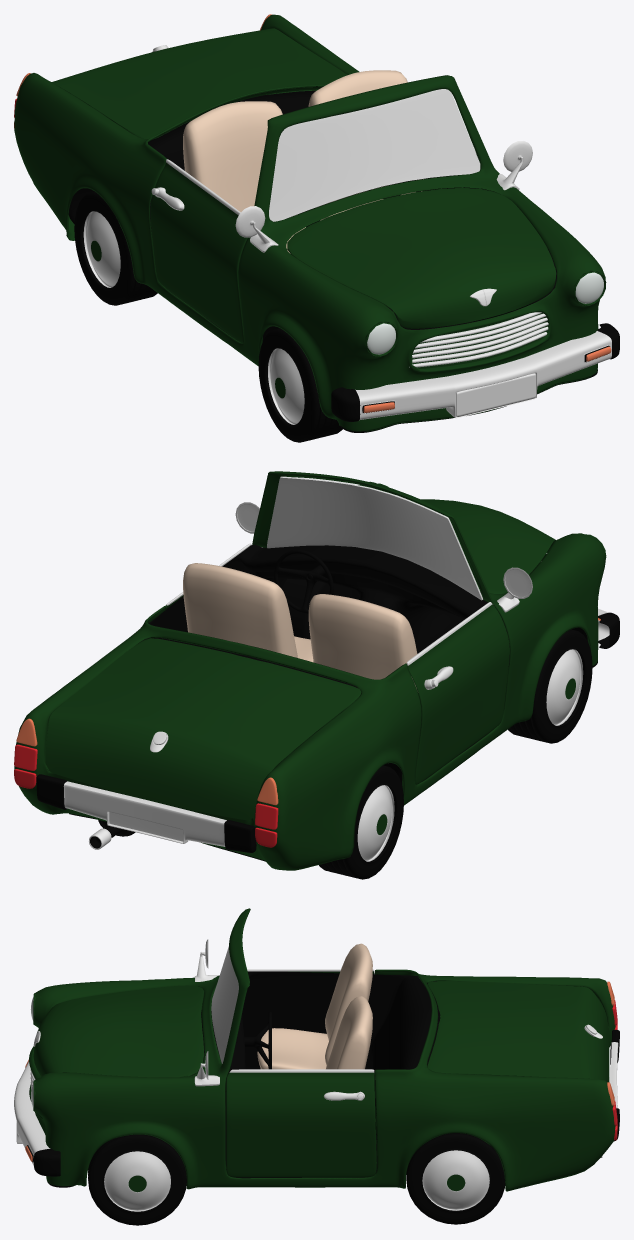
The model's file is car.fbx.
3 views of the same model, one above another, from view 1: azimuth 30°, elevation 25°; view 2: azimuth 150°, elevation 25°; view 3: azimuth 270°, elevation 25° (orthographic). The views are drawn at different scales.
Visible parts, largest first — view 1: Retopo_chasis, motor, vidres, door back, door side, seat, bumper, wheels.002, wheels.003, radiator, mirror, plate front (+3 smaller); view 2: Retopo_chasis, door back, seat, vidres, interior, door side, bumper back, motor, wheels.002, wheels.003, backlight, bottom (+5 smaller); view 3: Retopo_chasis, door side, door back, motor, interior, wheels.001, wheels, seat, bumper, vidres, mirror, bumper back (+2 smaller).
Boxes of the visible parts, left/top/right/bottom form: Retopo_chasis: left=14, top=14, right=606, bottom=431; motor: left=287, top=187, right=556, bottom=328; vidres: left=269, top=89, right=480, bottom=221; door back: left=52, top=28, right=347, bottom=138; door side: left=150, top=149, right=500, bottom=343; seat: left=183, top=70, right=423, bottom=253; bumper: left=331, top=323, right=619, bottom=421; wheels.002: left=258, top=328, right=342, bottom=442; wheels.003: left=74, top=191, right=157, bottom=305; radiator: left=409, top=312, right=548, bottom=367; mirror: left=235, top=141, right=532, bottom=252; plate front: left=456, top=373, right=535, bottom=416; Retopo_chasis: left=14, top=471, right=606, bottom=870; door back: left=45, top=638, right=361, bottom=820; seat: left=183, top=563, right=417, bottom=688; vidres: left=267, top=476, right=482, bottom=600; interior: left=138, top=545, right=487, bottom=688; door side: left=165, top=543, right=509, bottom=784; bumper back: left=36, top=774, right=256, bottom=852; motor: left=412, top=499, right=555, bottom=594; wheels.002: left=508, top=629, right=592, bottom=743; wheels.003: left=319, top=765, right=403, bottom=879; backlight: left=14, top=718, right=278, bottom=847; bottom: left=69, top=578, right=597, bottom=861; Retopo_chasis: left=29, top=908, right=615, bottom=1191; door side: left=226, top=969, right=376, bottom=1177; door back: left=427, top=981, right=609, bottom=1082; motor: left=33, top=985, right=204, bottom=1077; interior: left=194, top=971, right=440, bottom=1171; wheels.001: left=88, top=1134, right=186, bottom=1225; wheels: left=406, top=1133, right=505, bottom=1224; seat: left=257, top=943, right=372, bottom=1069; bumper: left=14, top=1059, right=60, bottom=1176; vidres: left=211, top=946, right=238, bottom=1063; mirror: left=194, top=939, right=219, bottom=1086; bumper back: left=609, top=1030, right=619, bottom=1141.
Bounding box in the file's own units: 191 × 165 × 395.
